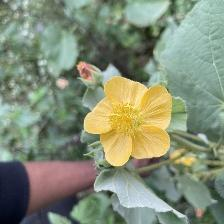indian mallow: (84, 75, 174, 167)
